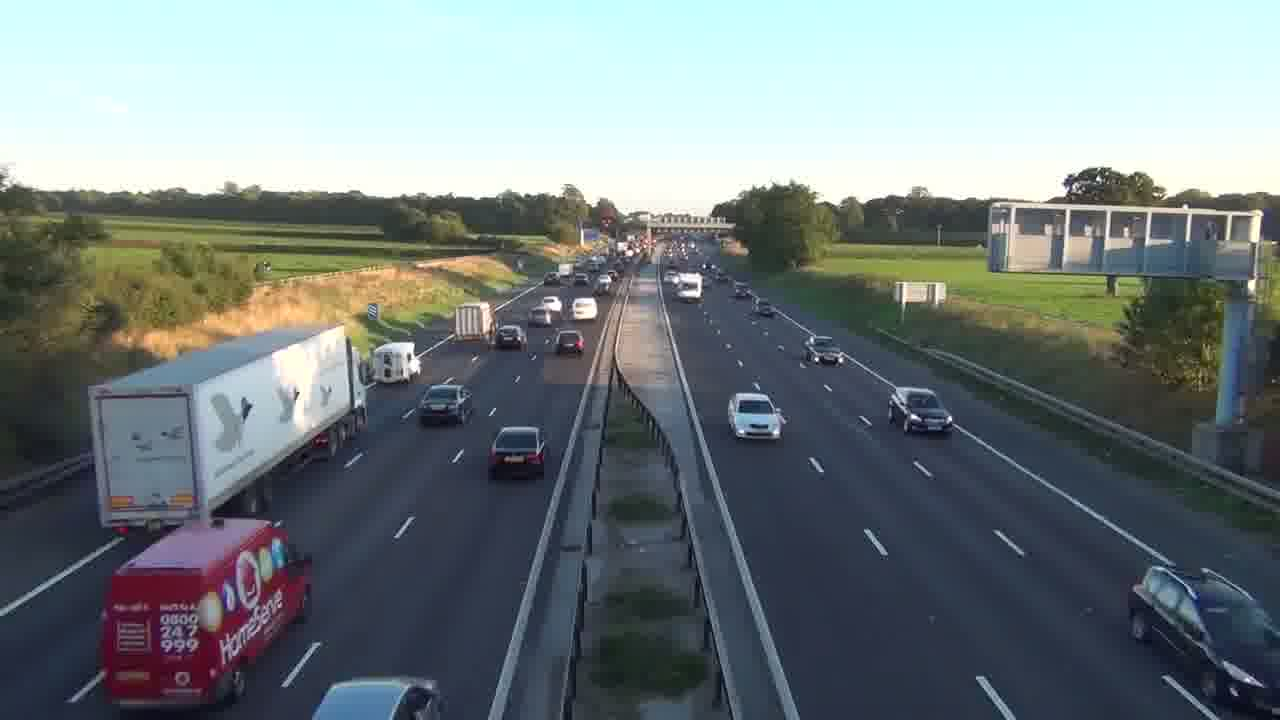car: (1127, 563, 1280, 714), (312, 676, 445, 719), (488, 425, 548, 480), (726, 392, 788, 443), (889, 386, 953, 434), (416, 382, 474, 426), (801, 335, 844, 366), (555, 329, 585, 357), (495, 322, 526, 349), (572, 296, 597, 320)
truck: (98, 515, 314, 709), (370, 341, 421, 384), (671, 272, 703, 303)
